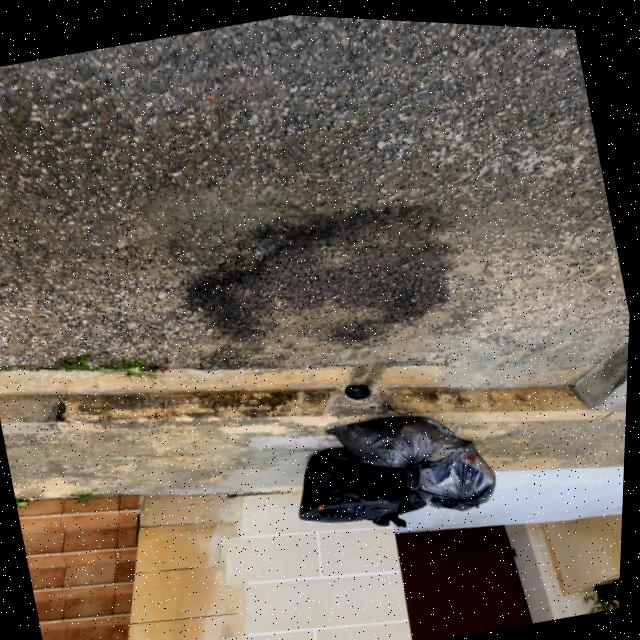Mixed Waste -Black Bag-: (288, 424, 437, 535), (325, 392, 475, 482), (401, 427, 504, 518)
